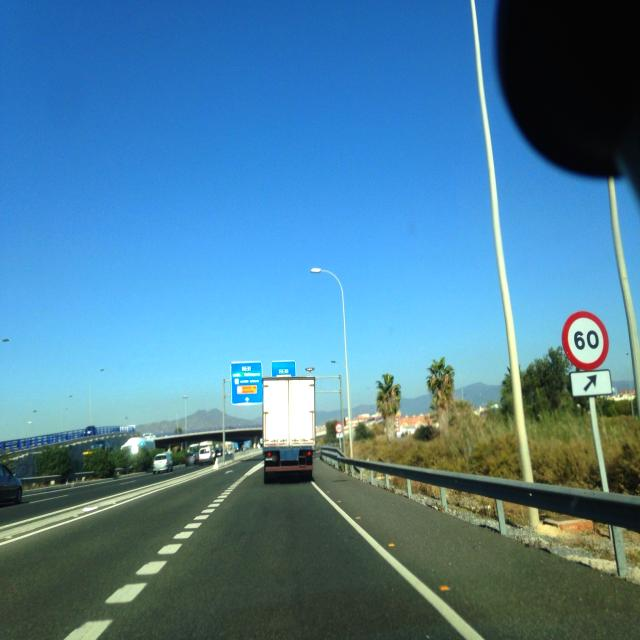car: (0, 459, 23, 510), (152, 452, 174, 473), (197, 444, 216, 465), (185, 451, 198, 466)
